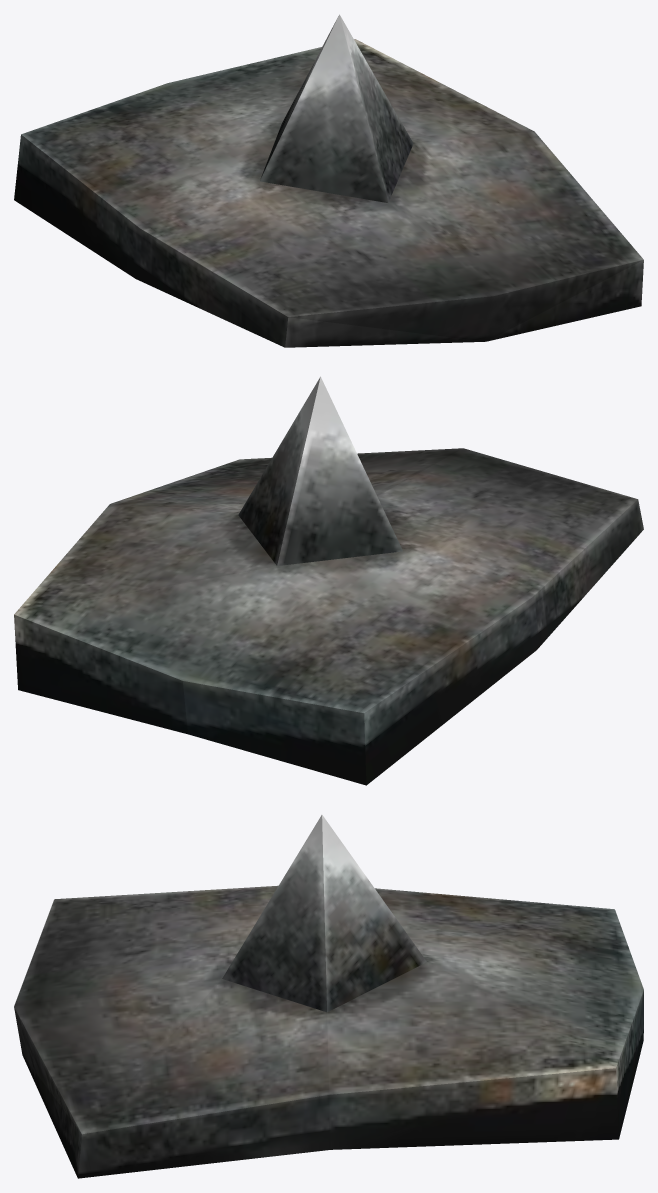
Rendered from TARCZKA.glb.
The picture shows the model from 3 angles, top to bottom: view 1: azimuth 30°, elevation 25°; view 2: azimuth 150°, elevation 25°; view 3: azimuth 270°, elevation 25°; orthographic projection. The views are drawn at different scales.
Parts seen in each view (by area): view 1: TARCZKA; view 2: TARCZKA; view 3: TARCZKA.
Boxes of the visible parts, left/top/right/bottom form: TARCZKA: left=14, top=14, right=643, bottom=347; TARCZKA: left=14, top=376, right=643, bottom=785; TARCZKA: left=14, top=815, right=643, bottom=1178.
Bounding box in the file's own units: 0.134 × 0.0803 × 0.171.
1 material, 1 textured.
